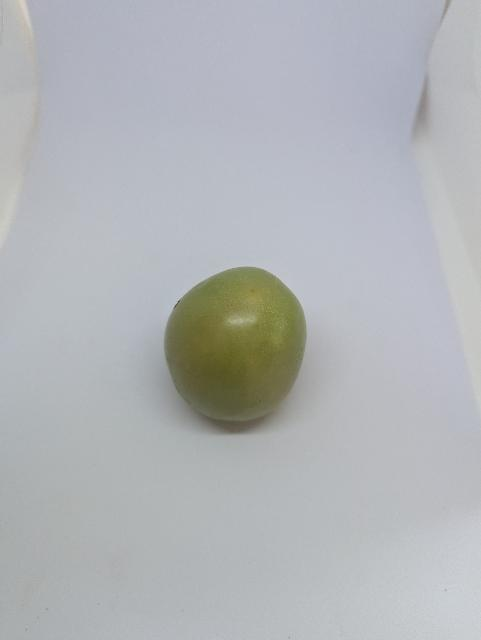green: (158, 259, 332, 440)
